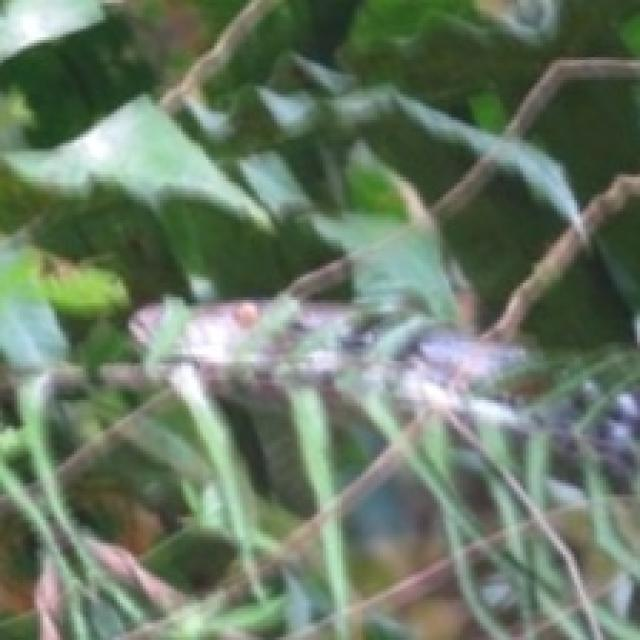reticulated python: (129, 295, 640, 479)
